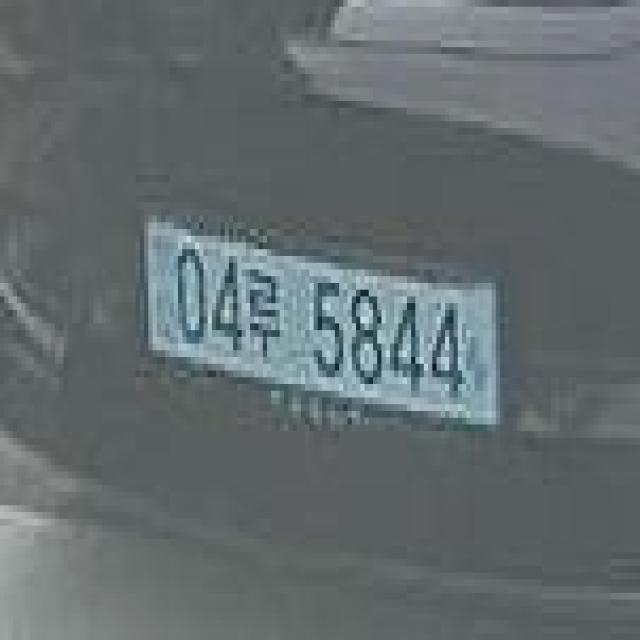EV_plate: (143, 205, 508, 460)
